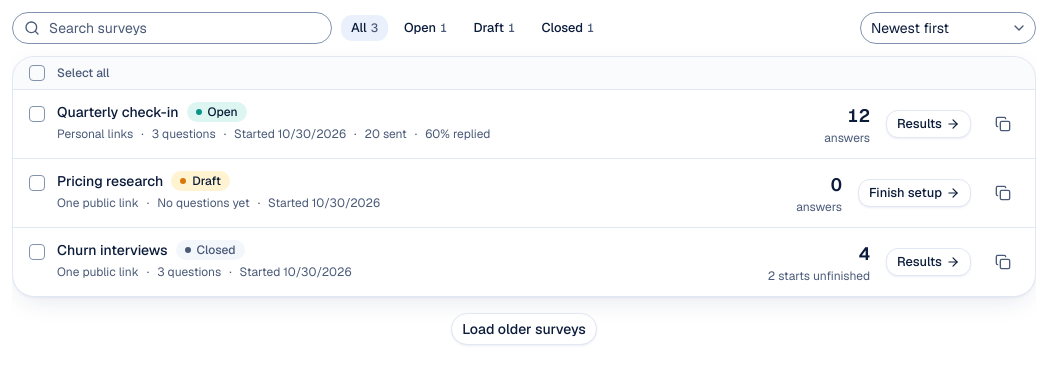
Test: surveys list › loads older surveys and appends them
Click the button "Load older surveys" at (524, 329), box [451, 313, 597, 345]
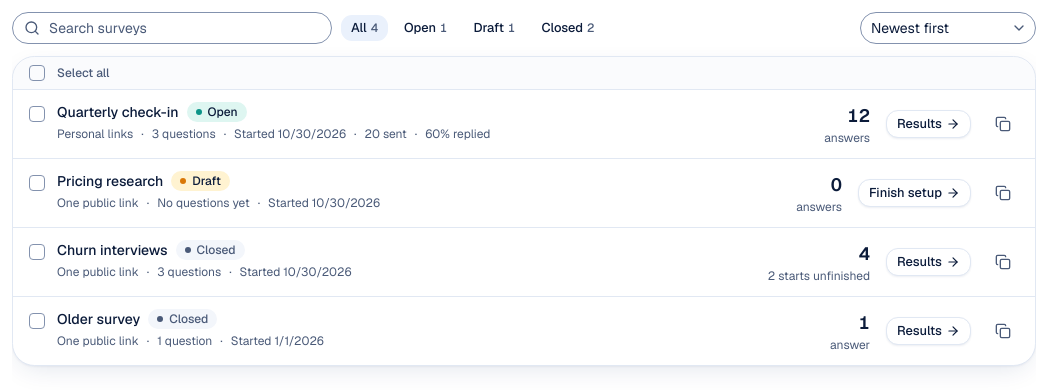
Expected: the link "Older survey" is shown, [57, 309, 140, 329]
Result: the button "Load older surveys" is gone
